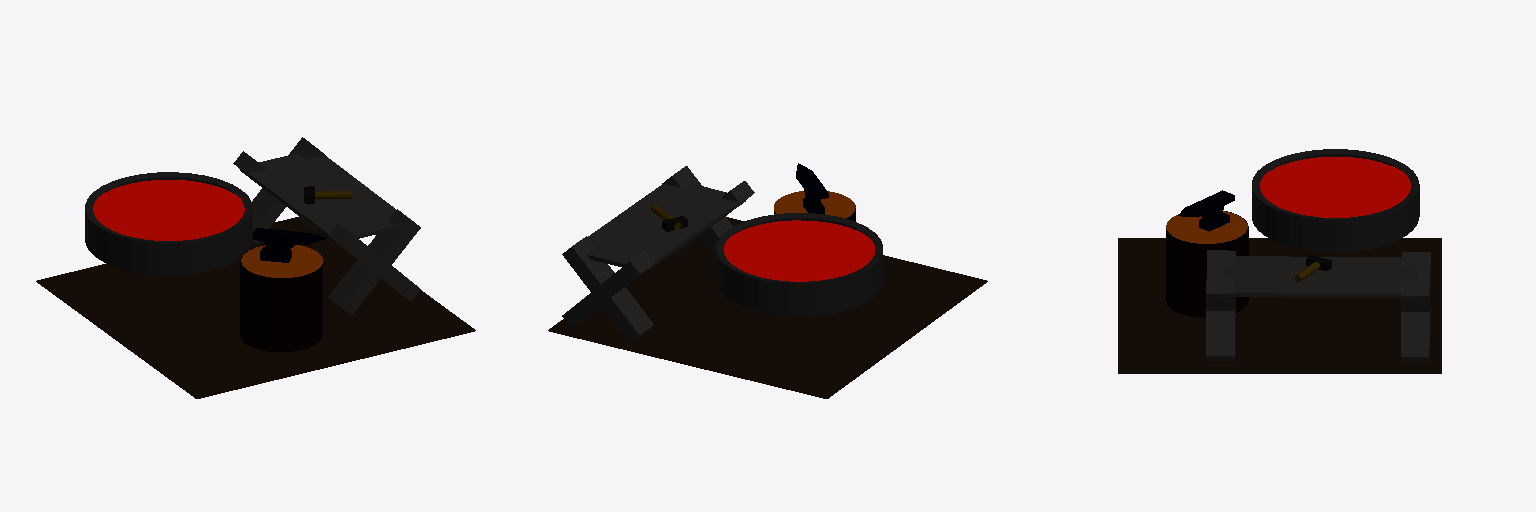
File: blacksmith1.obj
3 renders of one model, left to right at view 1: azimuth 30°, elevation 25°; view 2: azimuth 150°, elevation 25°; view 3: azimuth 270°, elevation 25°, orthographic.
Visible parts, largest first — view 1: Cube; view 2: Cube; view 3: Cube.
Part boxes in pixels (x1,y1,x2,y2): Cube: (36, 137, 475, 398); Cube: (548, 163, 987, 398); Cube: (1118, 149, 1441, 373).
Bounding box in the file's own units: 1.43 × 0.4916 × 1.43.